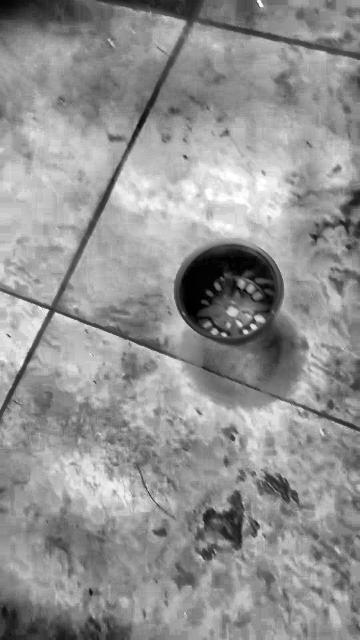pot: (174, 243, 283, 347)
